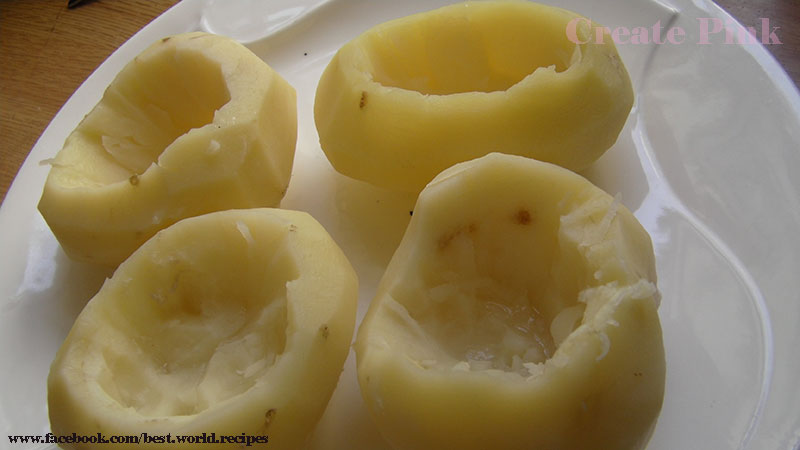boiled potatoes: (362, 167, 665, 440), (43, 207, 352, 449), (318, 11, 642, 186), (51, 36, 301, 220)
